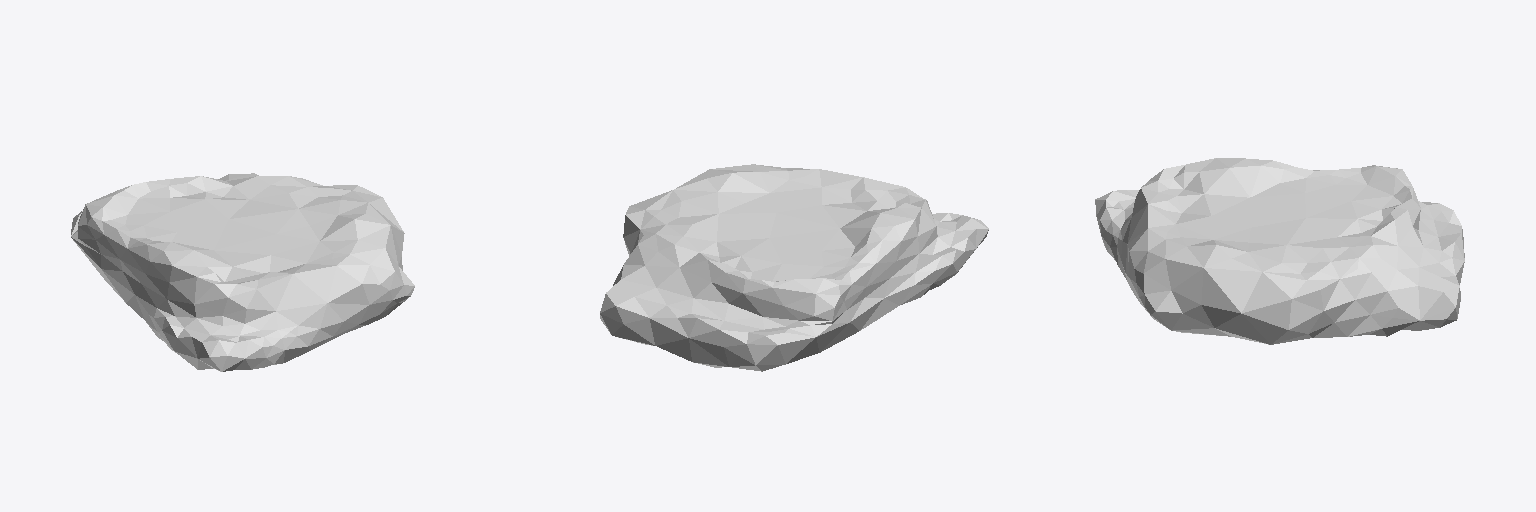
Rendered from RockSet06-E.obj.
The picture shows the model from 3 angles: view 1: azimuth 30°, elevation 25°; view 2: azimuth 150°, elevation 25°; view 3: azimuth 270°, elevation 25°; orthographic projection.
Parts seen in each view (by area): view 1: RockSet06-E; view 2: RockSet06-E; view 3: RockSet06-E.
Part boxes in pixels (x1,y1,x2,y2): RockSet06-E: (71, 173, 414, 371); RockSet06-E: (600, 164, 988, 371); RockSet06-E: (1095, 158, 1464, 344).
Size of the model in its own units: 22.19 by 6.95 by 25.51.